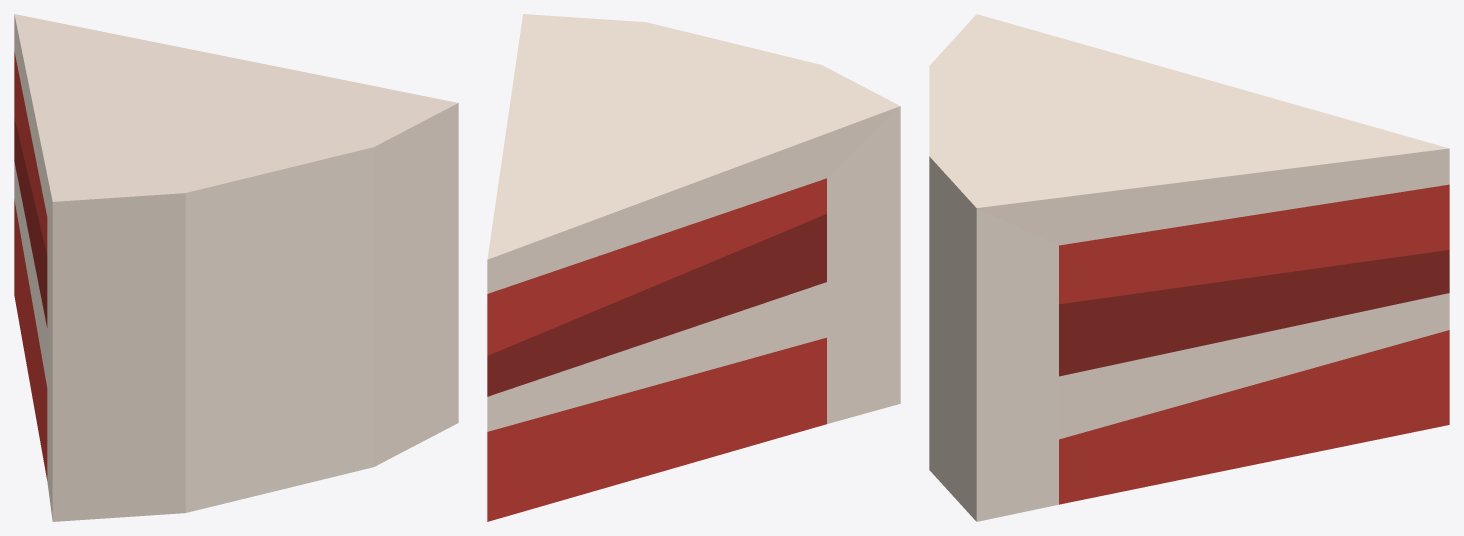
File: Experiment115.fbx
The picture shows the model from 3 angles, left to right: view 1: azimuth 30°, elevation 25°; view 2: azimuth 150°, elevation 25°; view 3: azimuth 270°, elevation 25°; orthographic projection. The views are drawn at different scales.
Parts seen in each view (by area): view 1: Experiment 115; view 2: Experiment 115; view 3: Experiment 115.
Boxes of the visible parts, x1,y1,x2,y2 form: Experiment 115: (14, 14, 458, 521); Experiment 115: (487, 14, 900, 521); Experiment 115: (929, 14, 1449, 521).
Size of the model in its own units: 47.11 by 35.5 by 53.35.
